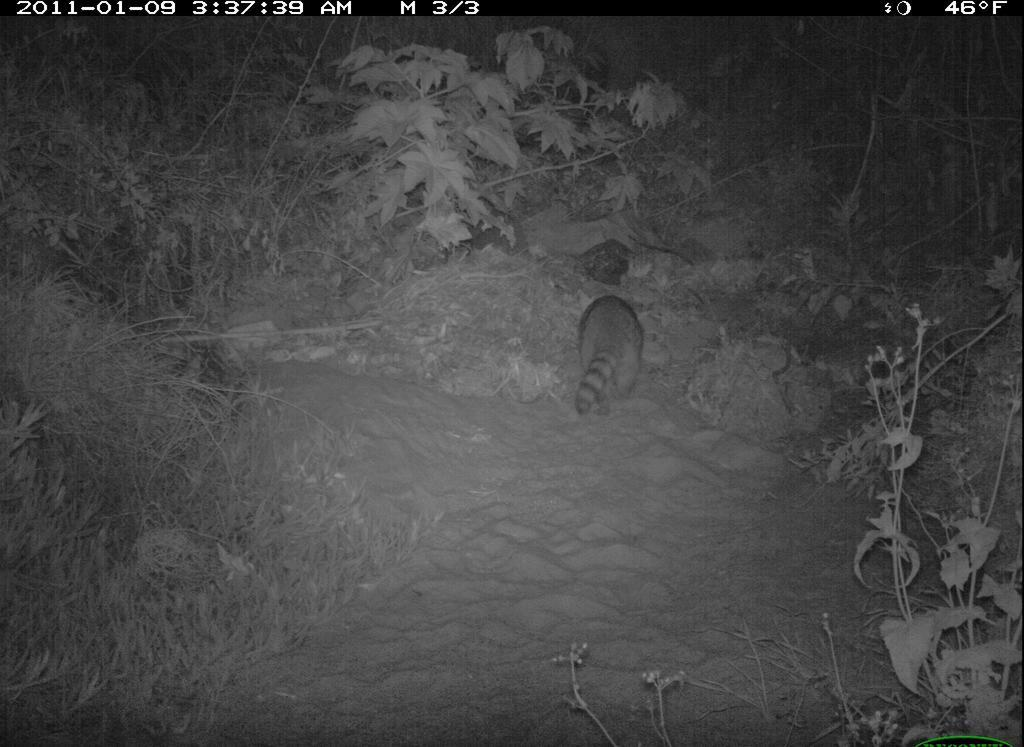raccoon: (564, 259, 661, 445)
